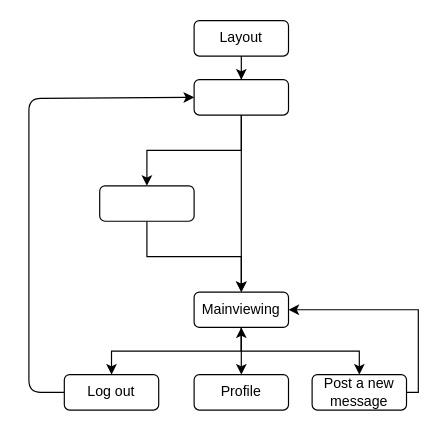
The diagram is 448 pixels wide and 431 high, and some of its shapes have lost their labels. Each missing label, with the box of its shape:
Create an account: (99, 185, 194, 221)
Log in: (193, 78, 289, 115)
